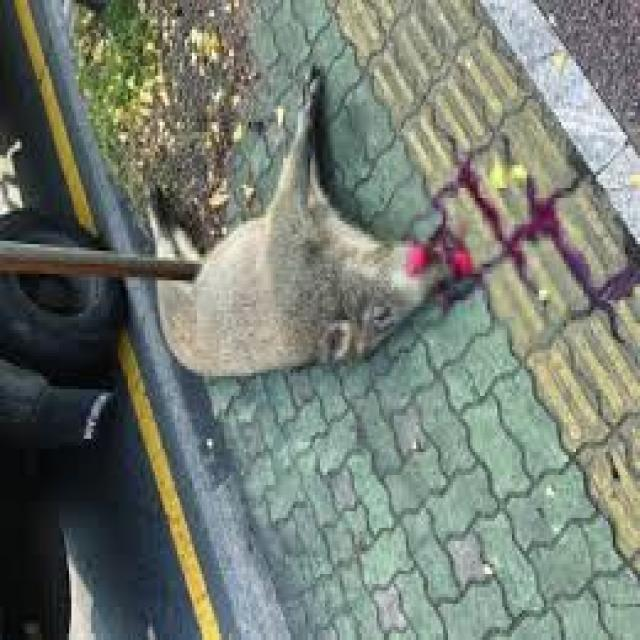boar: (79, 77, 498, 442)
